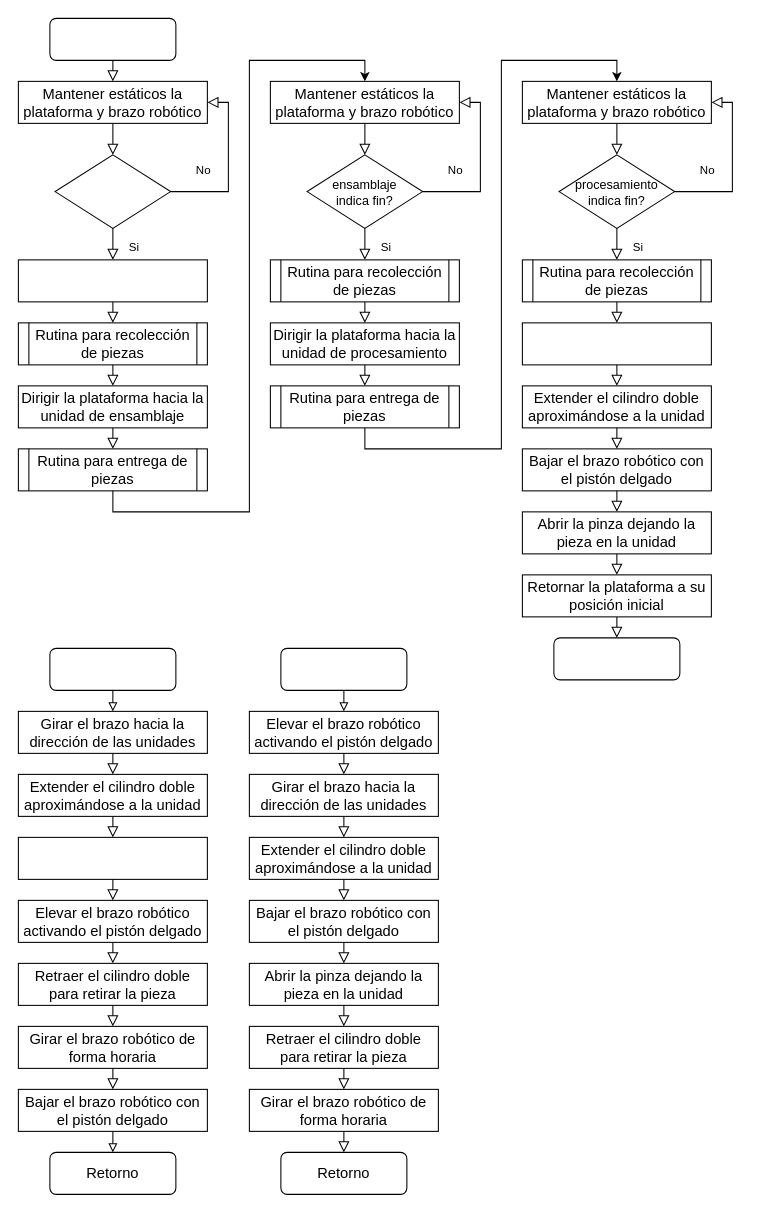
Image size: 761x1213. Some labels were removed from this diagram. The centre of each missing label's shape, as x and y in pixels:
"alimentación indica fin?" belongs at point 112,191.
"Cerrar la pinza sujetando la pieza de la unidad" belongs at point 112,857.
"Dirigir la plataforma hacia la unidad de selección" belongs at point 616,343.
"Fin" belongs at point 616,658.
"Llevar la plataforma hasta la posición inicial" belongs at point 112,280.
"Rutina de entrega" belongs at point 343,668.
"Rutina de recolección" belongs at point 112,668.
"Transporte" belongs at point 112,38.
